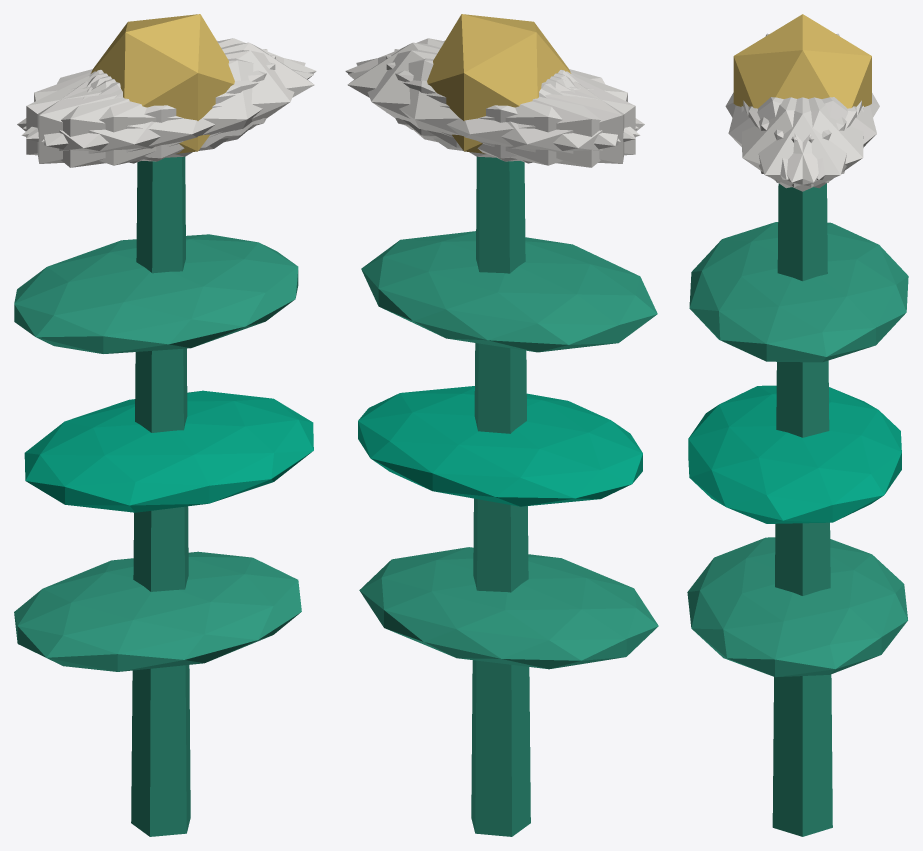
The model's file is arachis-pintoi.glb.
The picture shows the model from 3 angles, left to right: view 1: azimuth 30°, elevation 25°; view 2: azimuth 150°, elevation 25°; view 3: azimuth 270°, elevation 25°; orthographic projection.
Visible parts, largest first — view 1: leaf1, leaf2, leaf0, stem, center, petal1, petal6, petal2, petal5, petal7, petal0, petal4 (+2 smaller); view 2: stem, leaf2, leaf0, leaf1, center, petal8, petal3, petal7, petal4, petal2, petal0, petal5 (+2 smaller); view 3: leaf2, stem, leaf1, leaf0, center, petal0, petal4, petal5, petal8, petal1.
Boxes of the visible parts, x1,y1,x2,y2 form: leaf1: [24, 390, 313, 512]; leaf2: [14, 234, 298, 353]; leaf0: [14, 551, 301, 671]; stem: [131, 156, 190, 836]; center: [90, 14, 234, 153]; petal1: [21, 58, 313, 165]; petal6: [17, 71, 228, 167]; petal2: [37, 49, 267, 163]; petal5: [41, 50, 305, 158]; petal7: [26, 55, 275, 161]; petal0: [90, 42, 314, 147]; petal4: [23, 38, 316, 139]; stem: [471, 156, 530, 836]; leaf2: [361, 231, 657, 352]; leaf0: [359, 547, 658, 669]; leaf1: [358, 386, 642, 506]; center: [427, 14, 571, 153]; petal8: [348, 58, 640, 165]; petal3: [433, 71, 644, 167]; petal7: [394, 49, 624, 163]; petal4: [356, 50, 620, 158]; petal2: [386, 55, 635, 161]; petal0: [347, 42, 571, 147]; petal5: [345, 38, 638, 139]; leaf2: [689, 222, 908, 362]; stem: [772, 183, 832, 836]; leaf1: [688, 385, 901, 523]; leaf0: [687, 537, 907, 677]; center: [733, 14, 871, 108]; petal0: [743, 97, 861, 191]; petal4: [748, 97, 863, 188]; petal5: [741, 97, 856, 188]; petal8: [759, 97, 876, 179]; petal1: [728, 97, 846, 179].
Bounding box in the file's own units: 0.1471 × 0.3866 × 0.0979.
